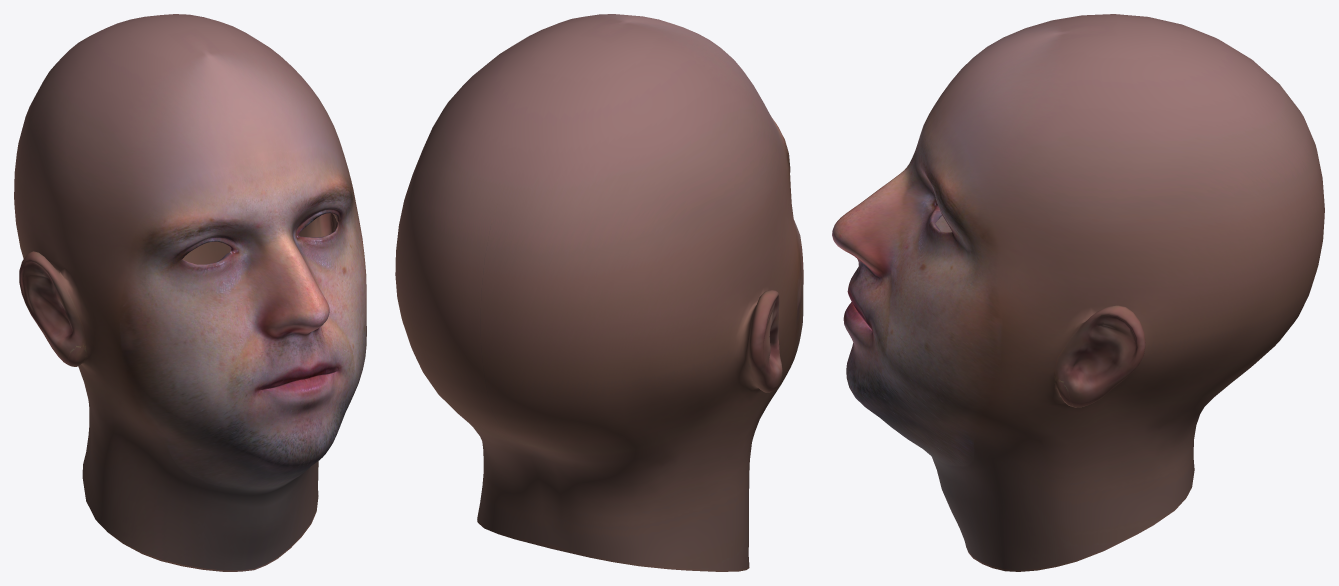
The picture shows the model from 3 angles, left to right: view 1: azimuth 30°, elevation 25°; view 2: azimuth 150°, elevation 25°; view 3: azimuth 270°, elevation 25°; orthographic projection. The views are drawn at different scales.
Visible parts, largest first — view 1: FaceGen; view 2: FaceGen; view 3: FaceGen.
Part boxes in pixels (left/top/right/bottom): FaceGen: left=14, top=14, right=366, bottom=571; FaceGen: left=395, top=14, right=803, bottom=571; FaceGen: left=832, top=14, right=1324, bottom=571.
Size of the model in its own units: 190 by 280 by 242.
Materials: 1 (1 with a texture image).
